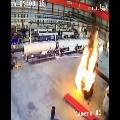fire: (74, 31, 98, 92)
